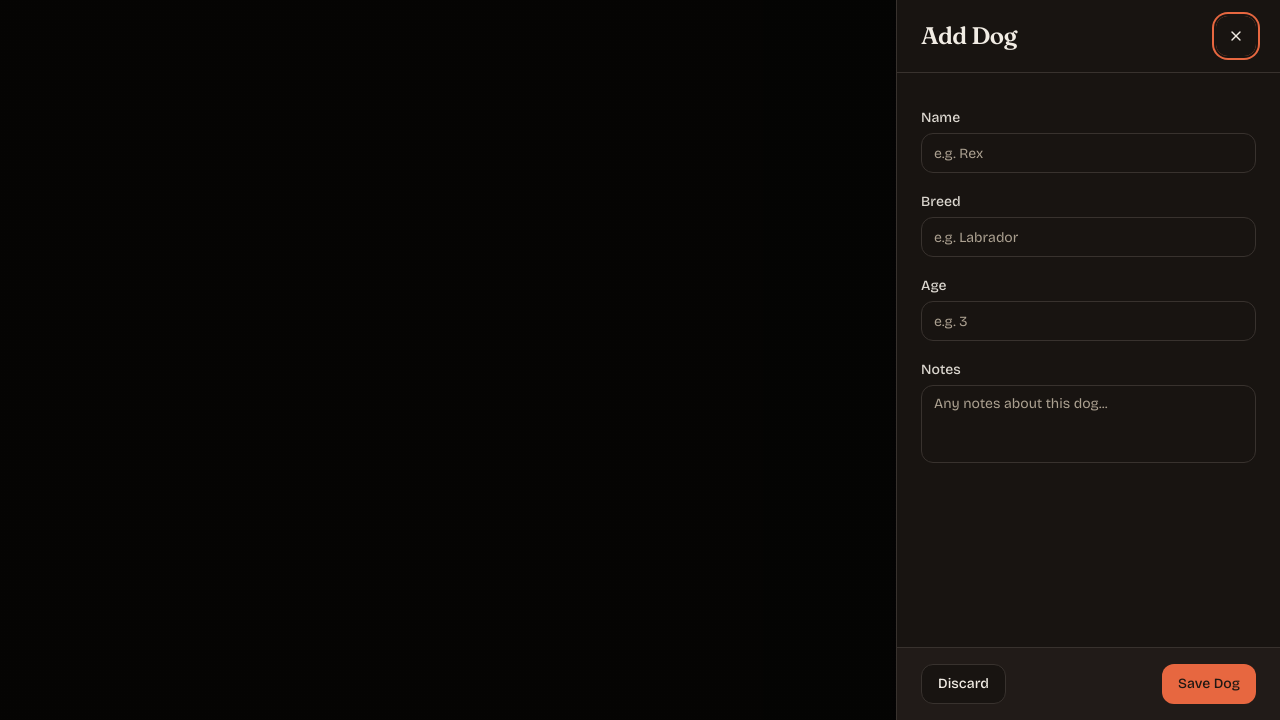
Scenario: DogPanel - Validation › shows "Name is required." error when submitting empty name
Click the button "Save Dog".
click(1209, 684)  # box [1162,664,1256,704]
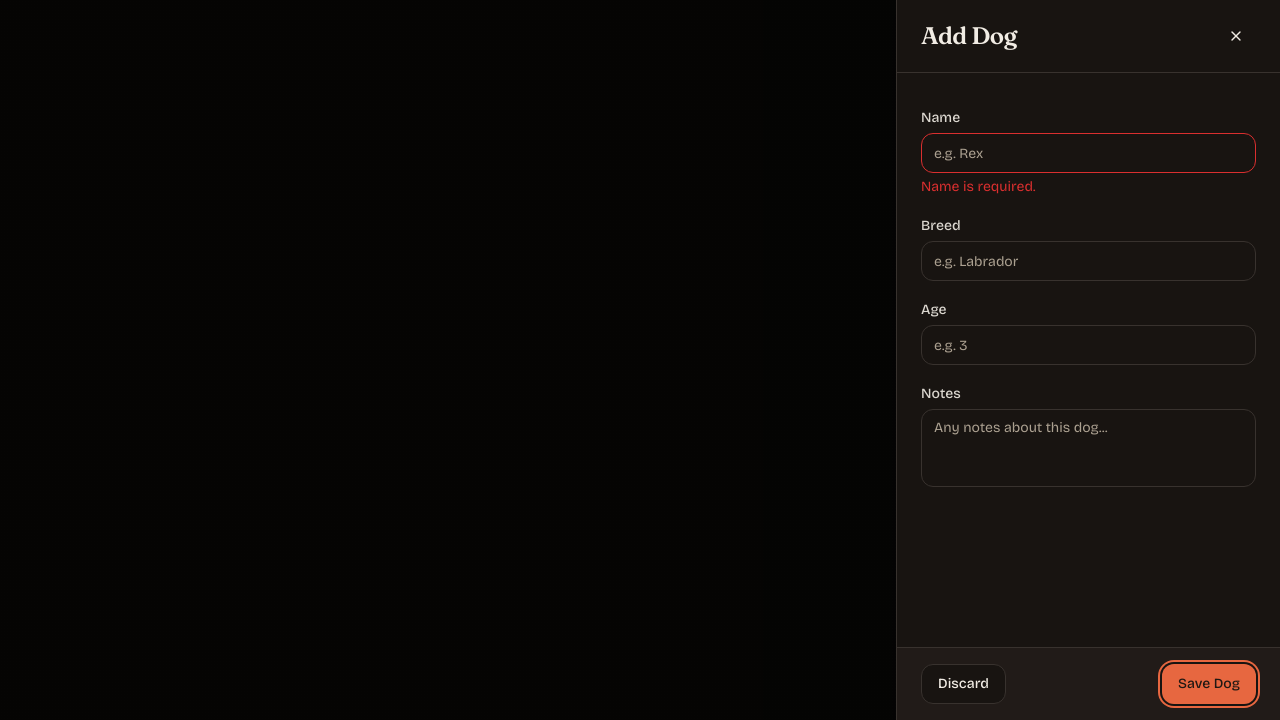
Now the text "Name is required." is shown, box [921,178,1036,195]
